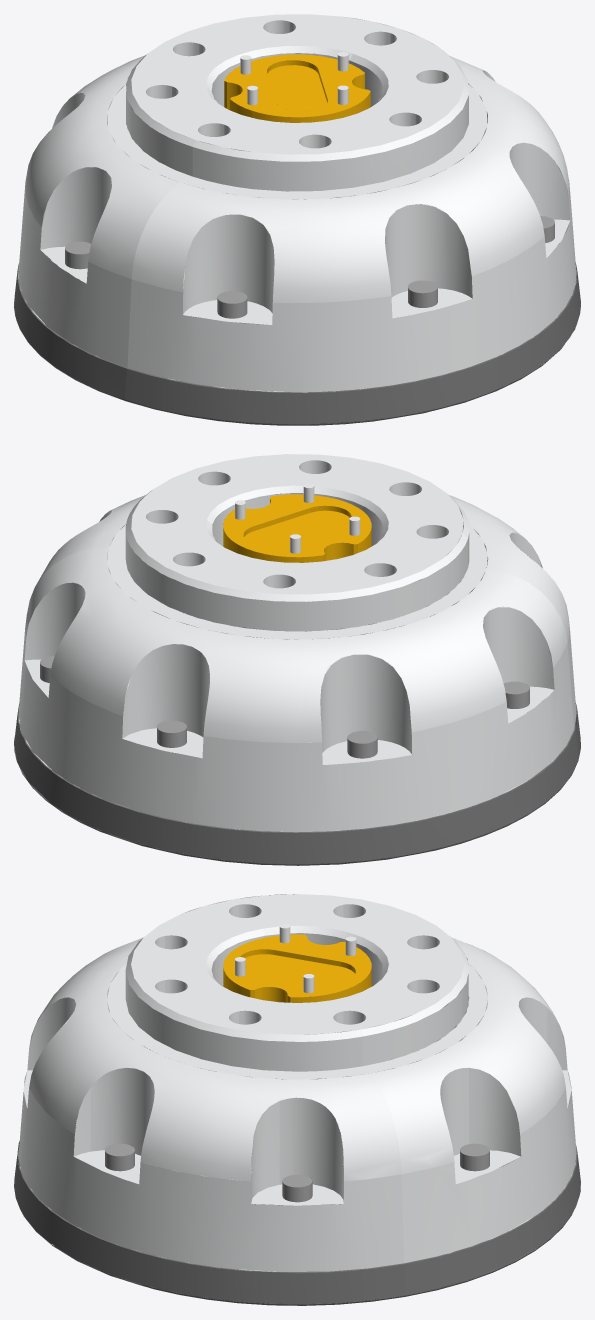
3 renders of one model, top to bottom at view 1: azimuth 30°, elevation 25°; view 2: azimuth 150°, elevation 25°; view 3: azimuth 270°, elevation 25°, orthographic.
Visible parts, largest first — view 1: DirectConnectNode_18-DC_Shell.007, DirectConnectNode_18-DC_Shell.002, DirectConnectNode_18-DC_Shell.001, DirectConnectNode_18-DC_Shell.008, DirectConnectNode_18-DC_Shell.015, DirectConnectNode_18-DC_Shell.010; view 2: DirectConnectNode_18-DC_Shell.007, DirectConnectNode_18-DC_Shell.002, DirectConnectNode_18-DC_Shell.001, DirectConnectNode_18-DC_Shell.011, DirectConnectNode_18-DC_Shell.012, DirectConnectNode_18-DC_Shell.010; view 3: DirectConnectNode_18-DC_Shell.007, DirectConnectNode_18-DC_Shell.002, DirectConnectNode_18-DC_Shell.001, DirectConnectNode_18-DC_Shell.014, DirectConnectNode_18-DC_Shell.013, DirectConnectNode_18-DC_Shell.016.
Boxes of the visible parts, box(x1,y1,x2,y2) form: DirectConnectNode_18-DC_Shell.007: box(18, 14, 576, 392); DirectConnectNode_18-DC_Shell.002: box(14, 166, 580, 425); DirectConnectNode_18-DC_Shell.001: box(224, 54, 370, 122); DirectConnectNode_18-DC_Shell.008: box(217, 291, 247, 318); DirectConnectNode_18-DC_Shell.015: box(408, 280, 437, 307); DirectConnectNode_18-DC_Shell.010: box(65, 241, 91, 269); DirectConnectNode_18-DC_Shell.007: box(18, 454, 576, 832); DirectConnectNode_18-DC_Shell.002: box(14, 602, 580, 865); DirectConnectNode_18-DC_Shell.001: box(223, 494, 371, 562); DirectConnectNode_18-DC_Shell.011: box(347, 731, 377, 758); DirectConnectNode_18-DC_Shell.012: box(157, 720, 186, 747); DirectConnectNode_18-DC_Shell.010: box(503, 681, 529, 708); DirectConnectNode_18-DC_Shell.007: box(18, 894, 576, 1271); DirectConnectNode_18-DC_Shell.002: box(14, 1046, 580, 1305); DirectConnectNode_18-DC_Shell.001: box(223, 934, 371, 1002); DirectConnectNode_18-DC_Shell.014: box(282, 1174, 312, 1202); DirectConnectNode_18-DC_Shell.013: box(460, 1143, 489, 1171); DirectConnectNode_18-DC_Shell.016: box(105, 1143, 134, 1171).
Size of the model in its own units: 0.1039 by 0.1039 by 0.0577.
